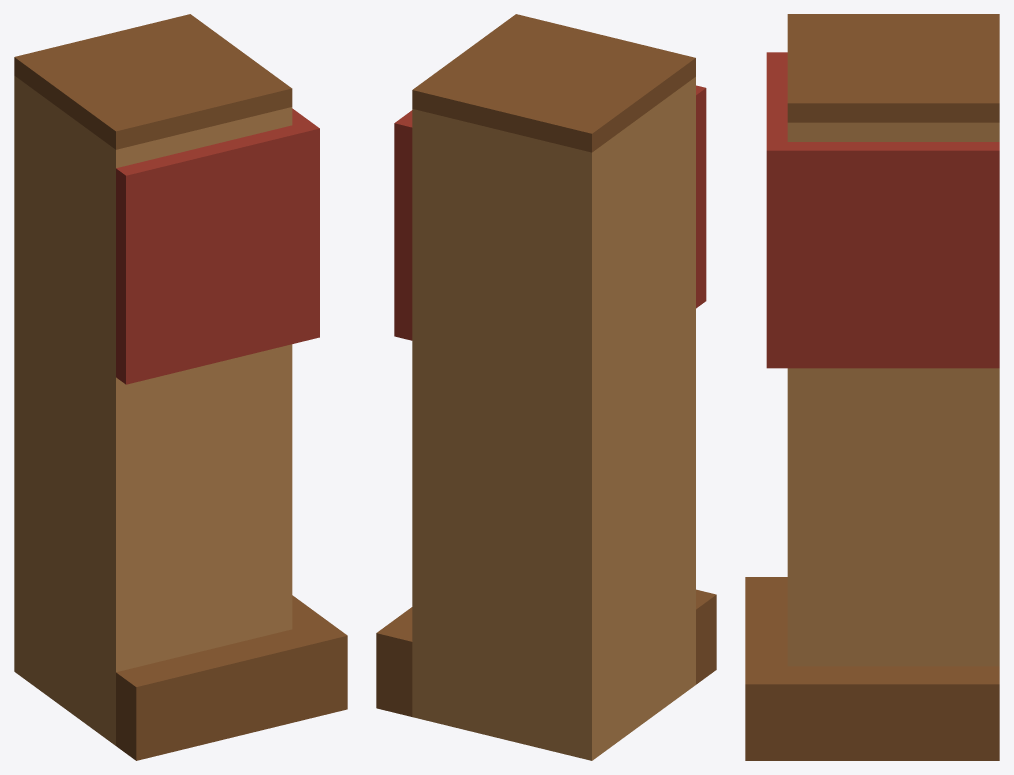
The model's file is wall-corner.glb.
3 views of the same model, side by side, from view 1: azimuth 30°, elevation 25°; view 2: azimuth 150°, elevation 25°; view 3: azimuth 270°, elevation 25° (orthographic). The views are drawn at different scales.
Visible parts, largest first — view 1: wall-corner; view 2: wall-corner; view 3: wall-corner.
Boxes of the visible parts, bbox=[...] form: wall-corner: bbox=[14, 14, 347, 760]; wall-corner: bbox=[376, 14, 716, 760]; wall-corner: bbox=[745, 14, 999, 760].
Size of the model in its own units: 0.18 by 0.5 by 0.18.
Materials: 1 (1 with a texture image).
